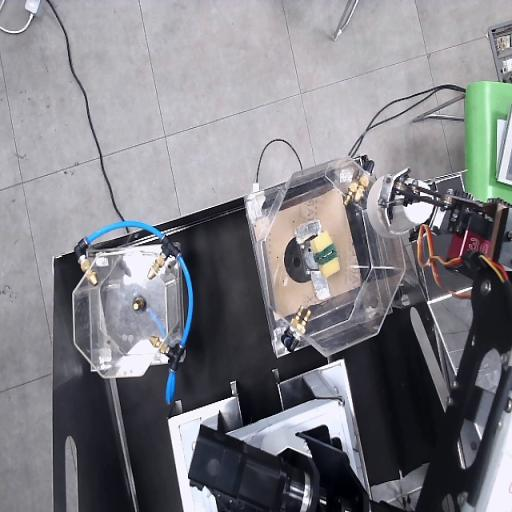cup in wash station: (367, 169, 433, 237)
